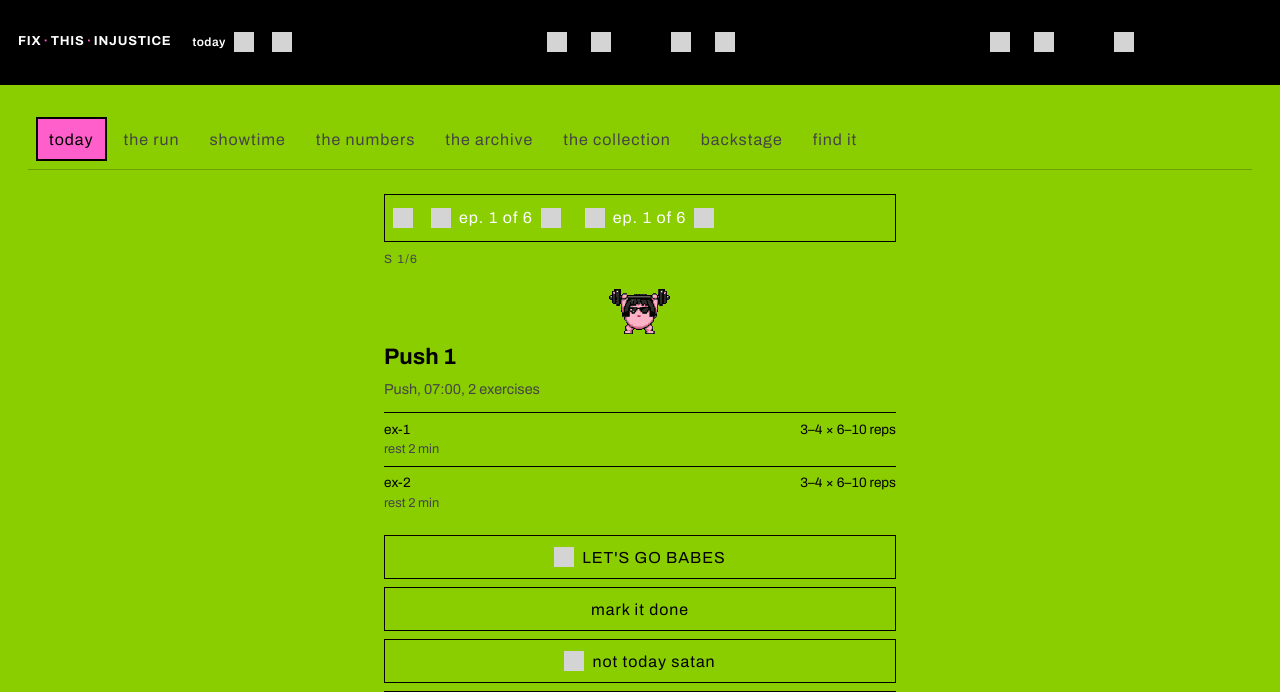
view shell › lands on Train from Today's Start, with the training day recorded
Click the button "LET'S GO BABES" at [640, 557], box x1=384 y1=535 x2=896 y2=579
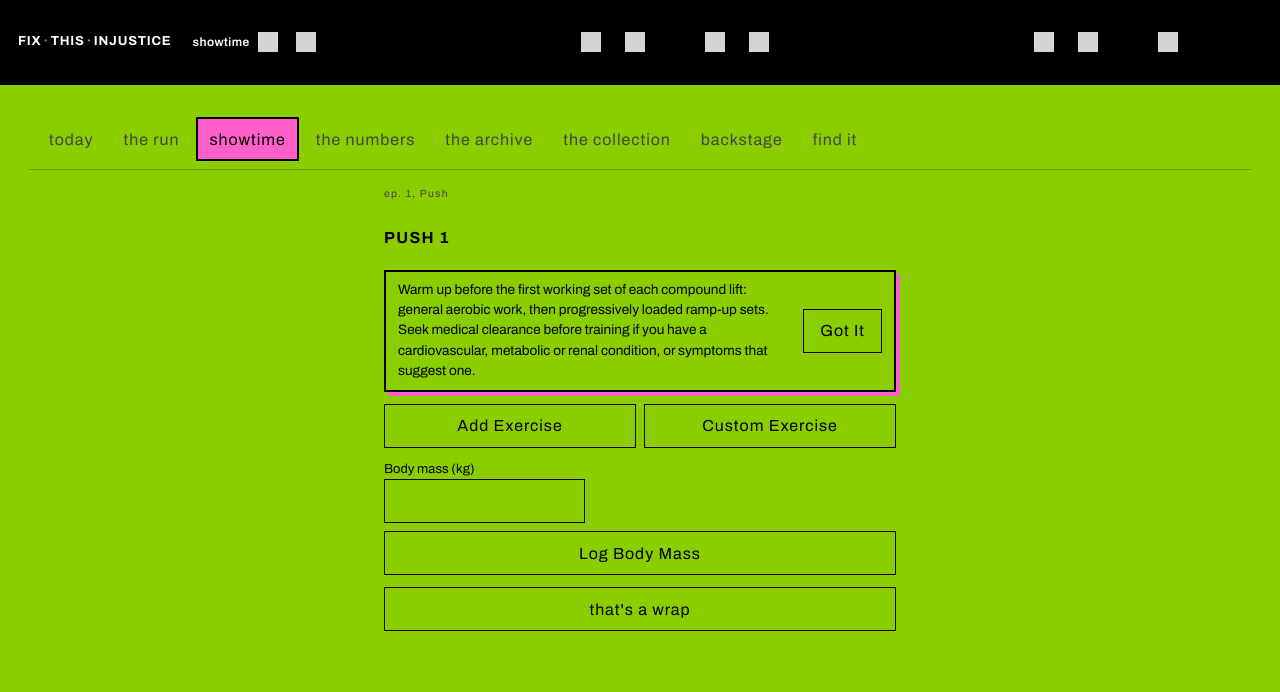
Check: the button "that's a wrap" is shown, box x1=384 y1=587 x2=896 y2=631
Check: the text "Warm up before the first working set of each compound lift: general aerobic work, then progressively loaded ramp-up sets" is shown, box x1=398 y1=282 x2=769 y2=378
